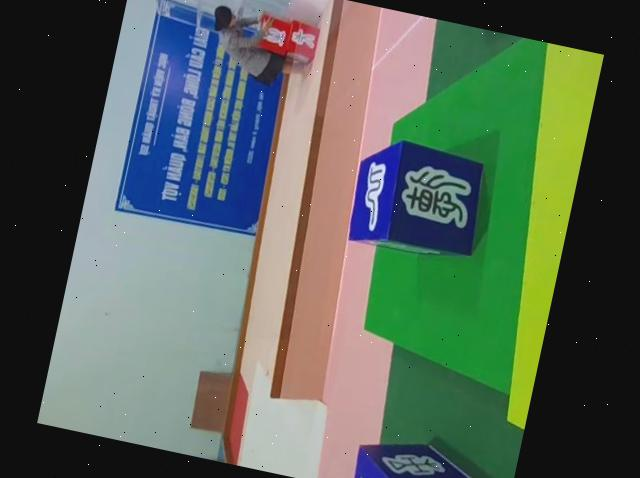R2 Fake Blue: (343, 133, 494, 269)
R2 Real Blue: (350, 430, 505, 478)
